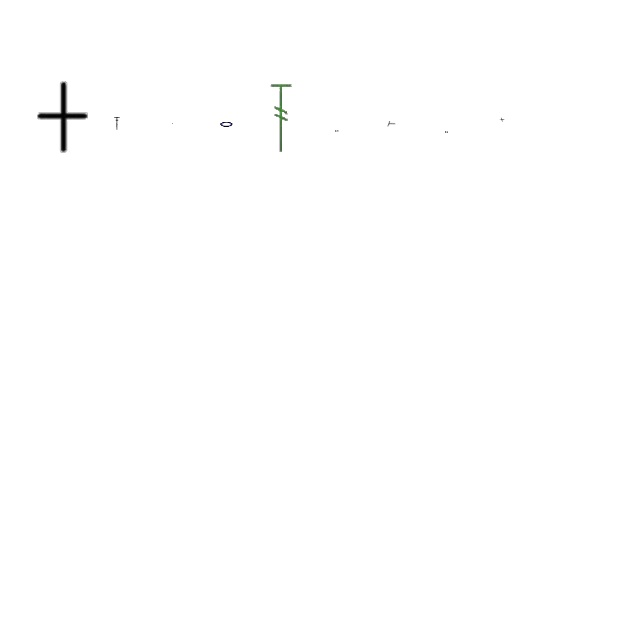chain: (220, 119, 234, 129), (335, 130, 339, 132), (446, 131, 448, 133), (171, 124, 173, 124)
double: (34, 82, 90, 154), (499, 118, 505, 122)
double treble: (114, 118, 120, 130)
enseble_chain: (388, 121, 396, 127)
fan: (268, 82, 296, 154)
